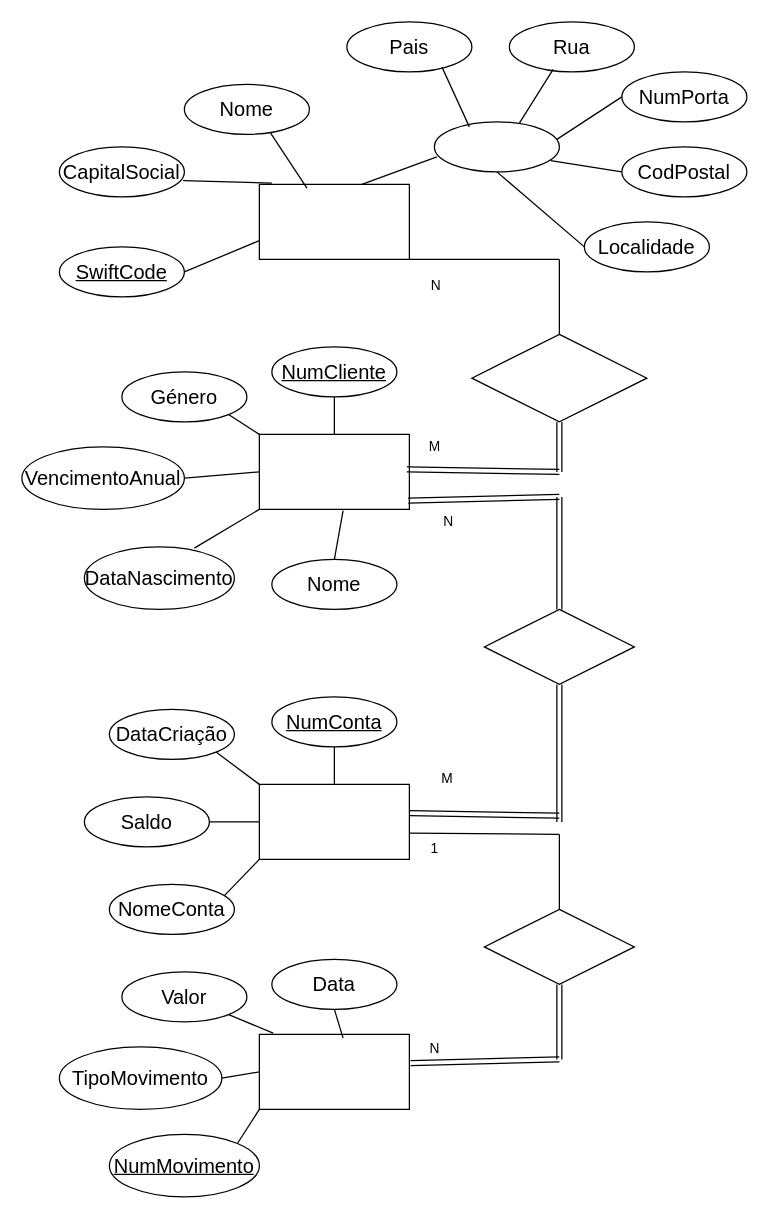
This 769x1219 diagram has some shape labels left out. The box of each missing label's shape, as (x1, y1, x2, y2) in pixels:
BANCO: (258, 183, 409, 259)
CLIENTE: (258, 433, 409, 509)
CONTA: (258, 783, 409, 859)
CONTA_DE: (483, 608, 634, 684)
Morada: (433, 121, 559, 172)
MOVIMENTOS: (258, 1033, 409, 1109)
MOVIMENTOS_DE: (471, 333, 647, 422)
PERTENCE_A: (483, 908, 634, 984)
